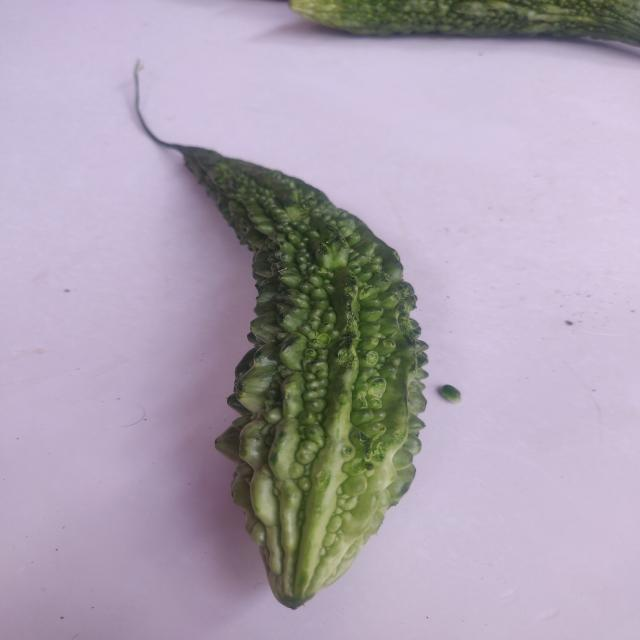Bitter Gourd: (130, 103, 464, 620)
